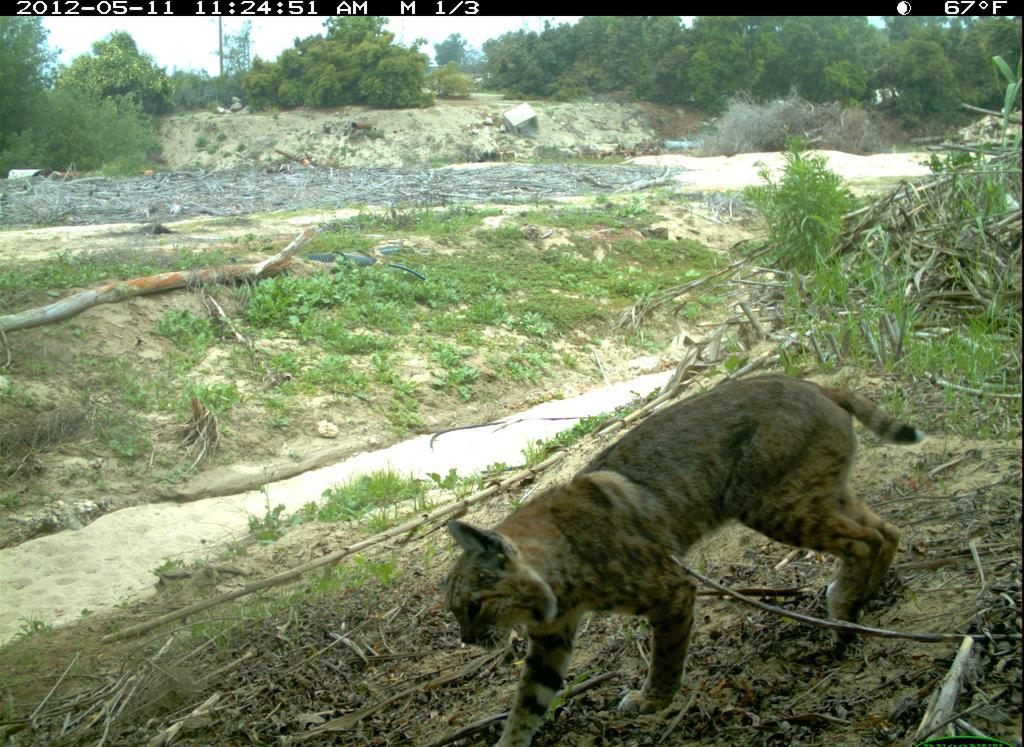bobcat: (428, 350, 936, 747)
